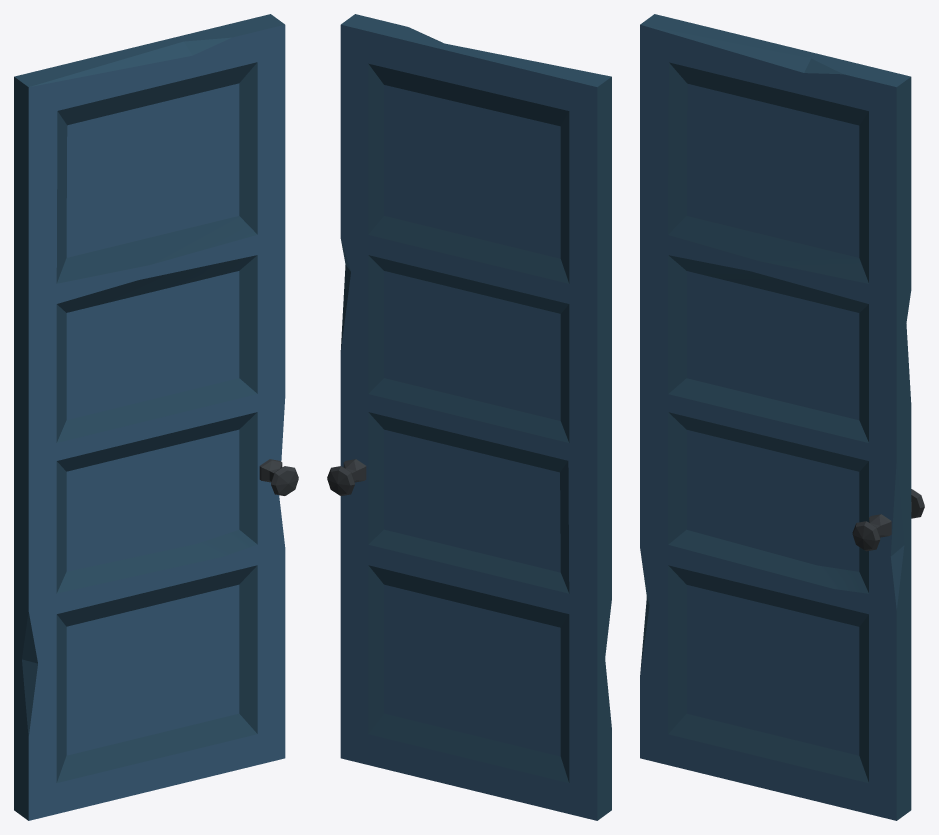
File: SM_Bld_Shop_Door_04_L.glb
3 renders of one model, left to right at view 1: azimuth 30°, elevation 25°; view 2: azimuth 150°, elevation 25°; view 3: azimuth 330°, elevation 25°, orthographic.
Parts seen in each view (by area): view 1: SM_Bld_Shop_Door_04_L; view 2: SM_Bld_Shop_Door_04_L; view 3: SM_Bld_Shop_Door_04_L.
Part boxes in pixels (x1,y1,x2,y2): SM_Bld_Shop_Door_04_L: (14,14,298,820); SM_Bld_Shop_Door_04_L: (327,14,611,820); SM_Bld_Shop_Door_04_L: (640,14,924,820).
Bounding box in the file's own units: 1.03 × 2.8 × 0.3586.
Materials: 1 (1 with a texture image).
